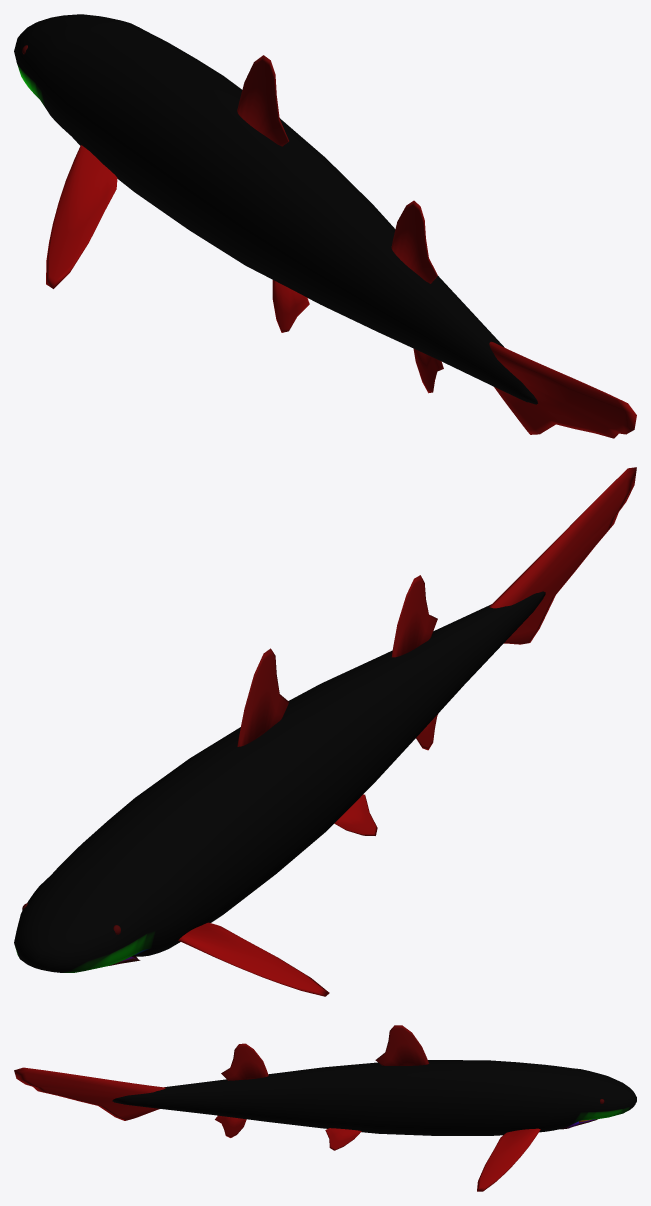
File: leopard_shark_game.glb
3 views of the same model, one above another, from view 1: azimuth 30°, elevation 25°; view 2: azimuth 150°, elevation 25°; view 3: azimuth 270°, elevation 25° (orthographic). The views are drawn at different scales.
Visible parts, largest first — view 1: leopard_shark_game; view 2: leopard_shark_game; view 3: leopard_shark_game.
Part boxes in pixels (left/top/right/bottom): leopard_shark_game: left=14, top=14, right=636, bottom=438; leopard_shark_game: left=14, top=467, right=636, bottom=996; leopard_shark_game: left=14, top=1025, right=636, bottom=1191.
Size of the model in its own units: 0.4037 by 0.3495 by 1.5.
